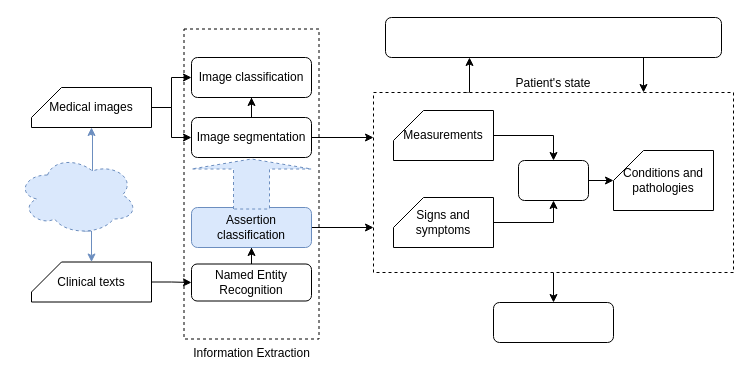
The diagram is 751 pixels wide and 377 high, and some of its shapes have lost their labels. Here are the shapes that lost their labels. From the top down, the centre of each, then its label:
At [553,37]: "Time Series Prediction".
At [77,194]: "MIMIC-CXR CheXpert".
At [251,183]: "training labels!".
At [553,180]: "Diagnosis".
At [553,322]: "Treatment Recommendation".
